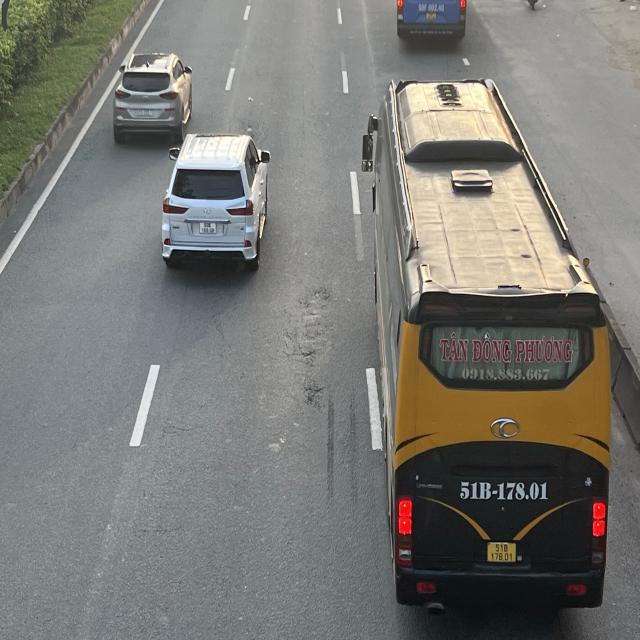car: (160, 134, 270, 270), (111, 52, 193, 142)
coach: (362, 80, 622, 606)
